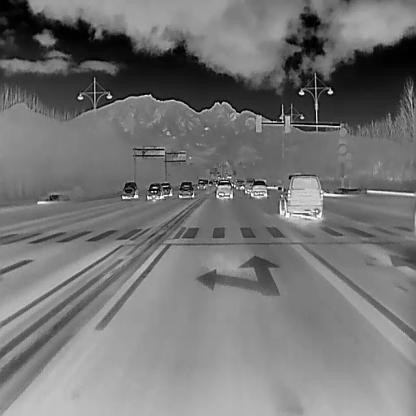car: (276, 173, 323, 218), (214, 178, 233, 197), (177, 180, 194, 198), (250, 179, 267, 197), (146, 182, 163, 199), (122, 181, 138, 199), (160, 180, 173, 196), (243, 177, 254, 193), (234, 178, 244, 189), (196, 178, 205, 188), (207, 179, 212, 187)
